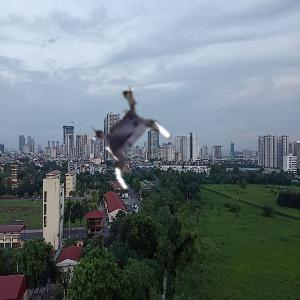drone: (82, 92, 176, 186)
